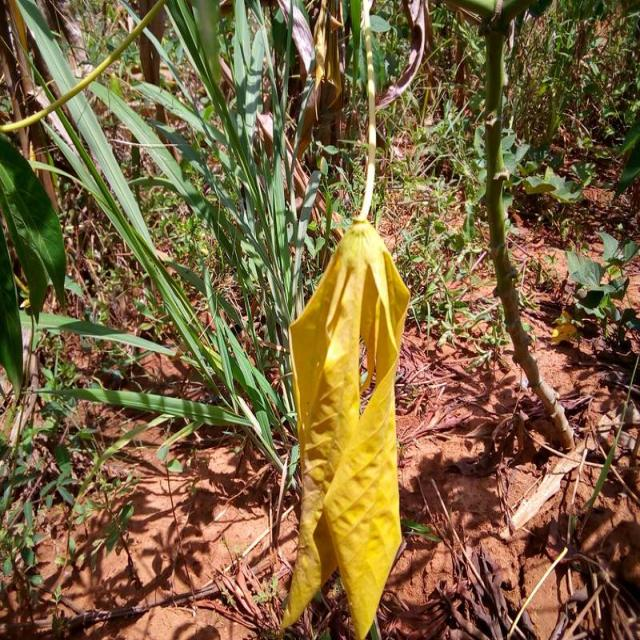cassava leaf: (280, 216, 410, 638)
